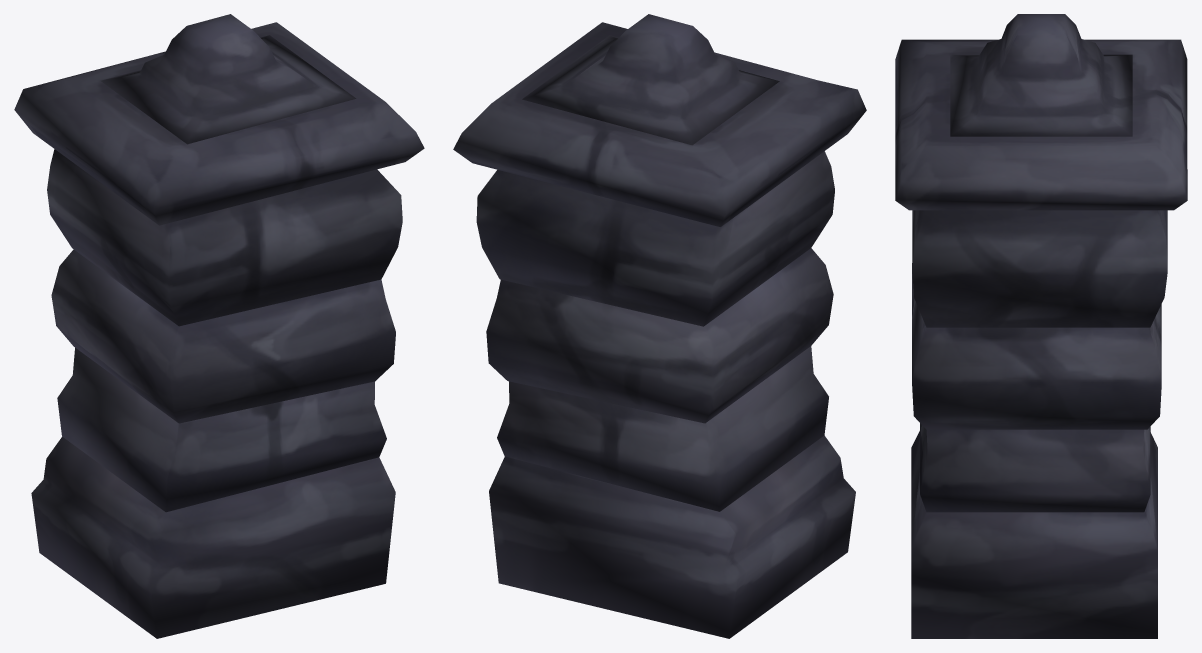
Rendered from fance_01.fbx.
3 renders of one model, left to right at view 1: azimuth 30°, elevation 25°; view 2: azimuth 150°, elevation 25°; view 3: azimuth 270°, elevation 25°, orthographic. The views are drawn at different scales.
Parts seen in each view (by area): view 1: fance_01; view 2: fance_01; view 3: fance_01.
Part boxes in pixels (x1,y1,x2,y2): fance_01: (14, 14, 424, 638); fance_01: (453, 14, 866, 638); fance_01: (895, 14, 1187, 638).
Size of the model in its own units: 129 by 245 by 115.
